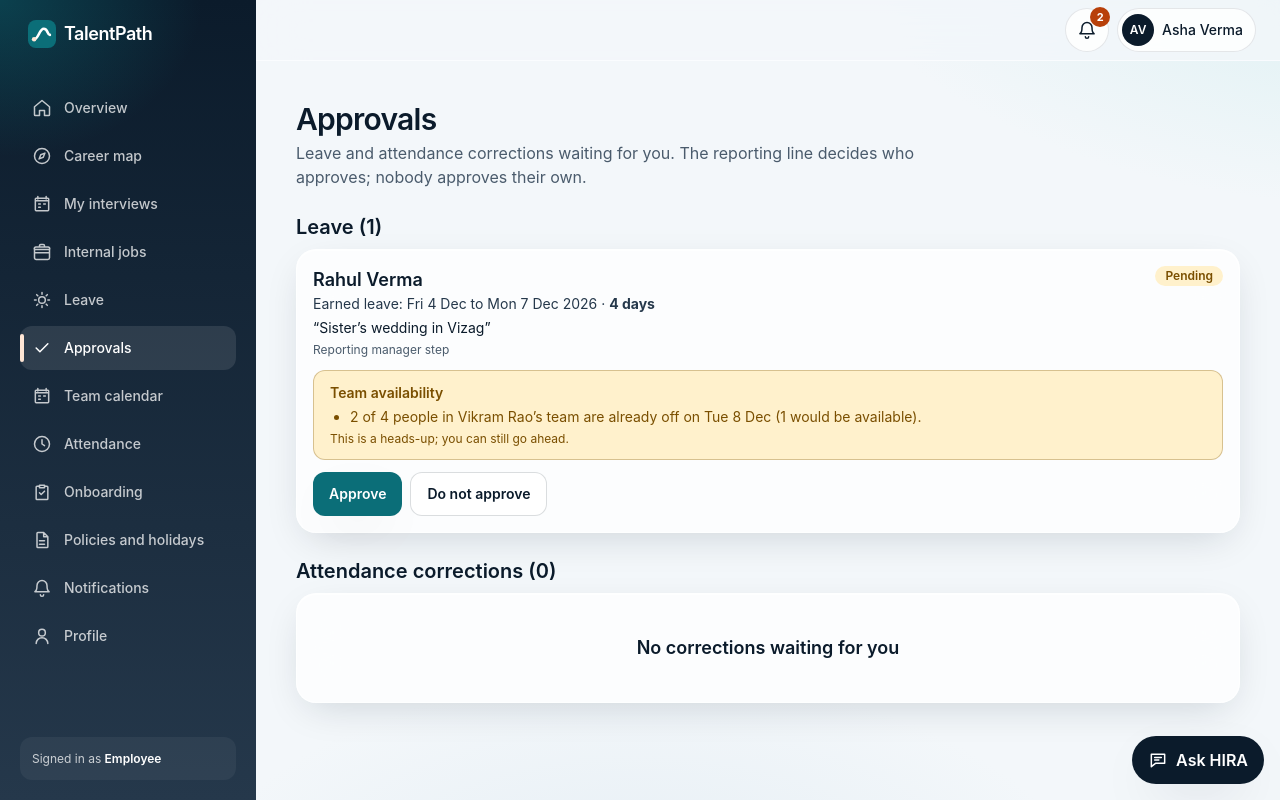
it: approvals inbox › not approving needs a reason
Click the button named "Do not approve leave for Rahul Verma" at (479, 494), box [410,472,547,516]
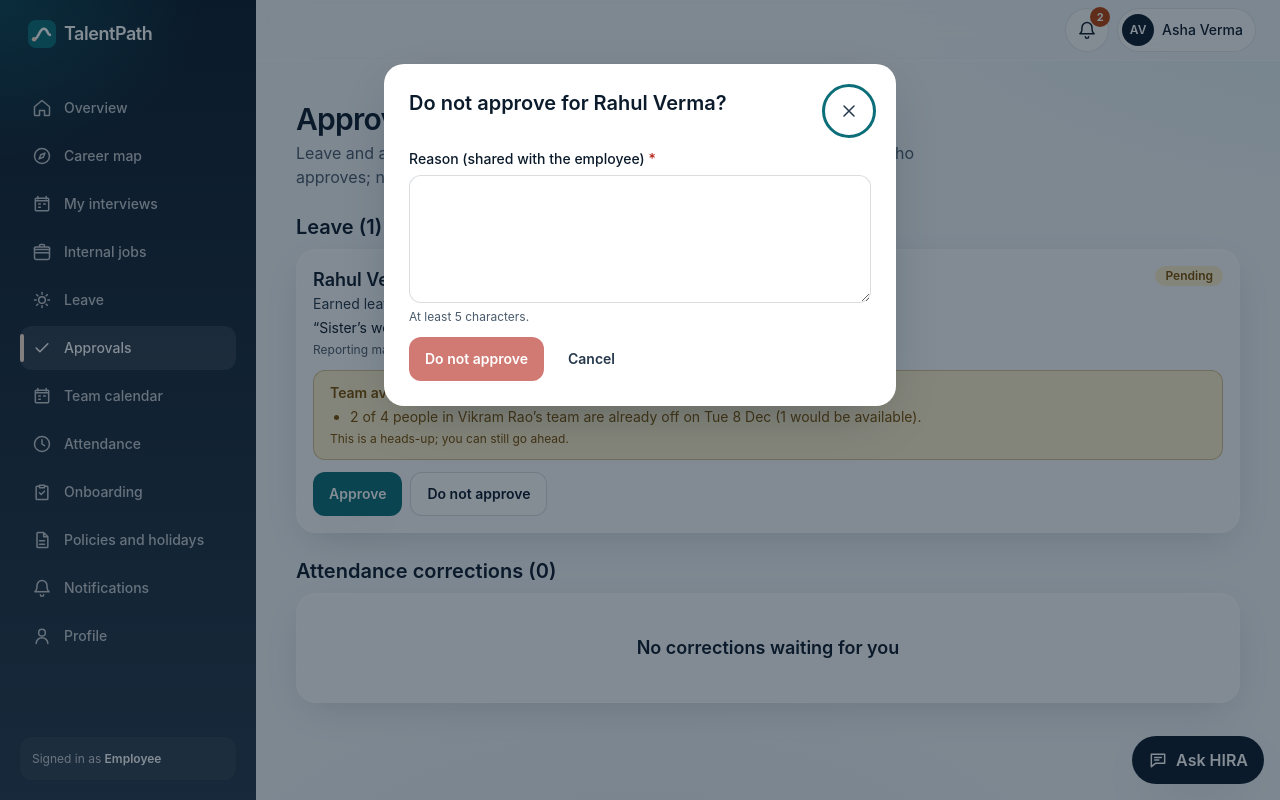
Check: the button "Do not approve" is disabled, box [409,337,544,381]
Type "Release week" into the text box labelled "Reason (shared with the employee) *" at (640, 239), box [409,175,871,303]
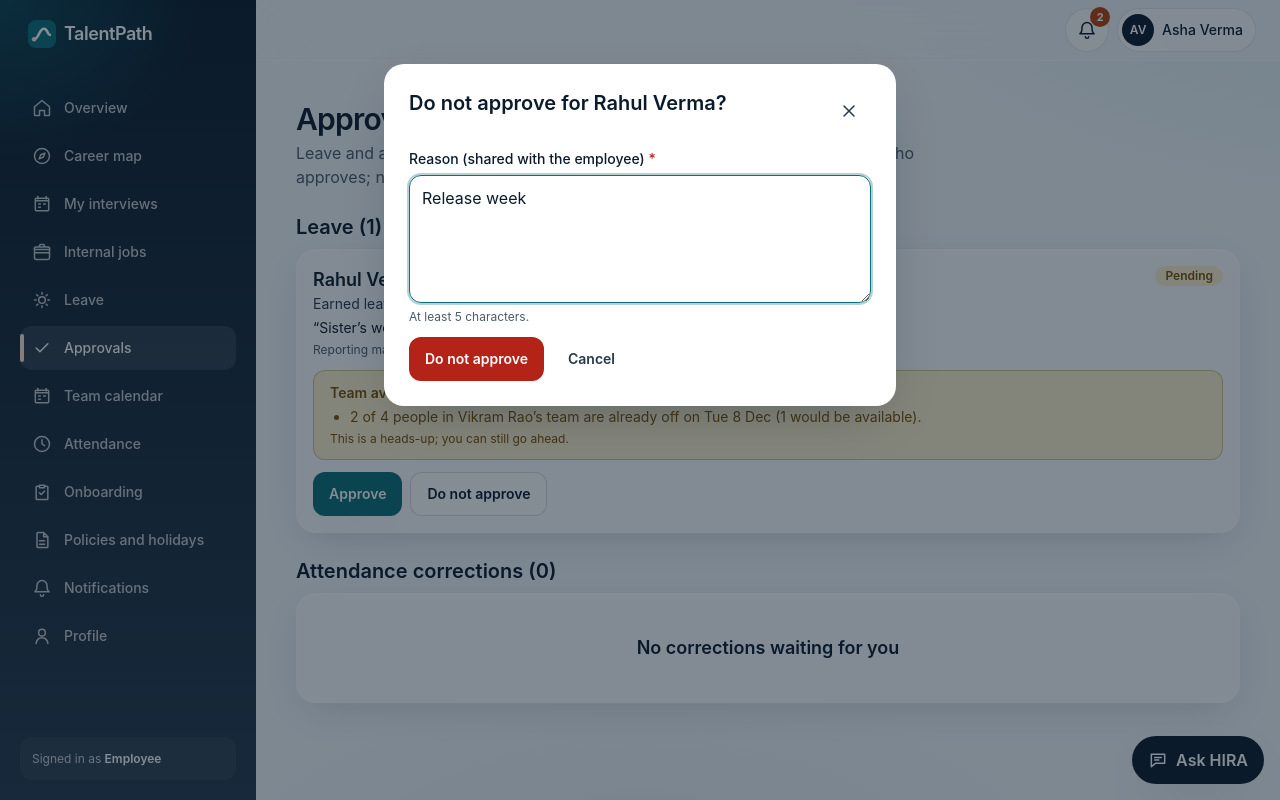
Check: the button "Do not approve" is enabled, box [409,337,544,381]
